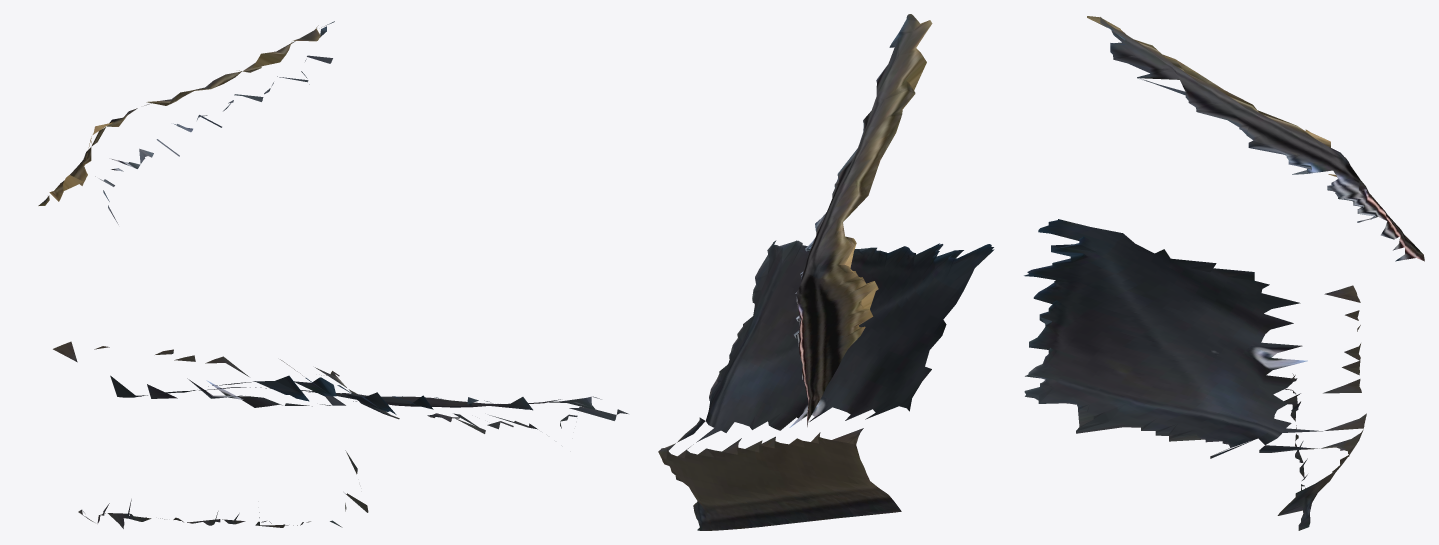
Rendered from observed-surface.glb.
3 renders of one model, left to right at view 1: azimuth 30°, elevation 25°; view 2: azimuth 150°, elevation 25°; view 3: azimuth 270°, elevation 25°, orthographic. The views are drawn at different scales.
Parts seen in each view (by area): view 1: geometry_0; view 2: geometry_0; view 3: geometry_0.
Part boxes in pixels (x1,y1,x2,y2): geometry_0: (38, 21, 628, 528); geometry_0: (658, 14, 994, 530); geometry_0: (1024, 16, 1424, 530).
Bounding box in the file's own units: 0.4624 × 0.7832 × 0.6149.
Materials: 1 (1 with a texture image).
